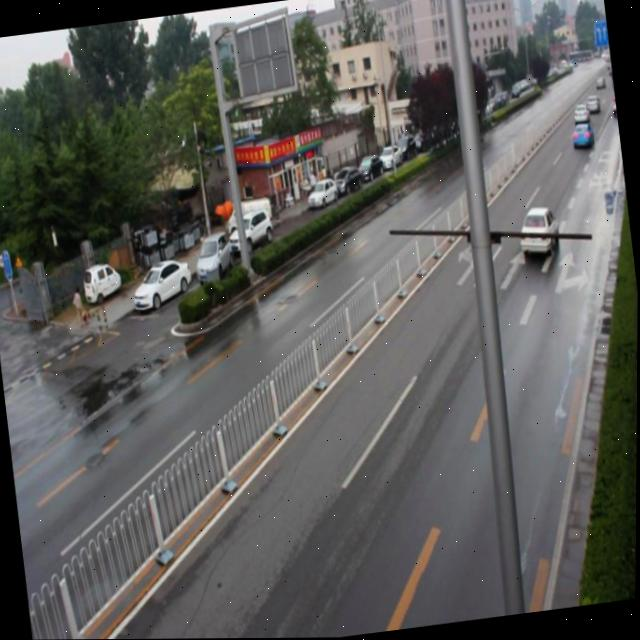car: (515, 205, 560, 259), (569, 125, 593, 151)
